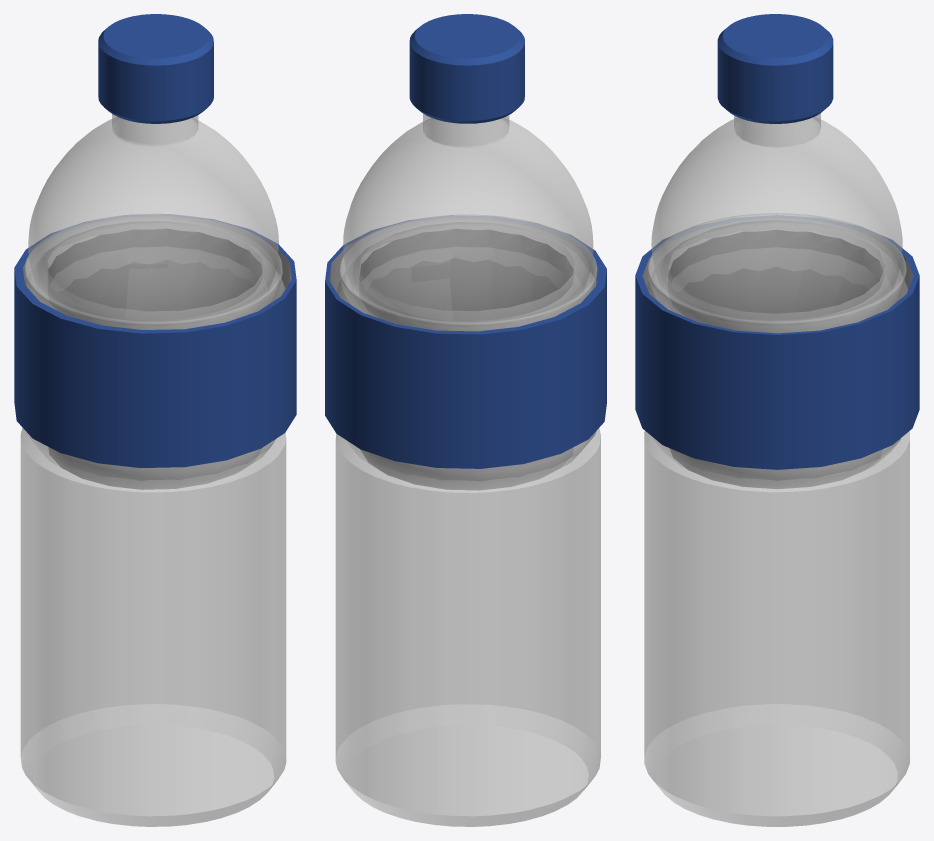
File: water_bottle.fbx
3 views of the same model, side by side, from view 1: azimuth 30°, elevation 25°; view 2: azimuth 150°, elevation 25°; view 3: azimuth 270°, elevation 25° (orthographic).
Parts seen in each view (by area): view 1: pTorus2; view 2: pTorus2; view 3: pTorus2.
Part boxes in pixels (box(x1,y1,x2,y2)): pTorus2: box(14, 14, 296, 826); pTorus2: box(325, 14, 606, 826); pTorus2: box(635, 14, 919, 826).
Size of the model in its own units: 6.54 by 18.81 by 6.54.
